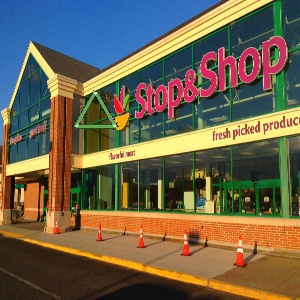triangle: (72, 88, 123, 132)
